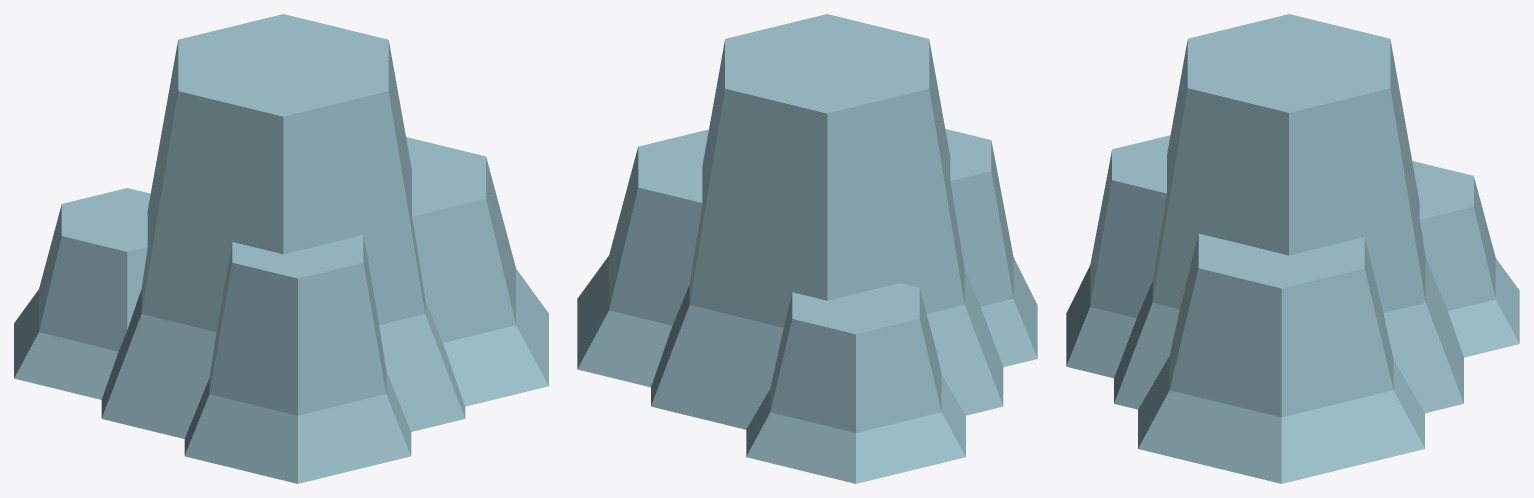
File: d_kenney_rochers_hauts.glb
3 views of the same model, side by side, from view 1: azimuth 30°, elevation 25°; view 2: azimuth 150°, elevation 25°; view 3: azimuth 270°, elevation 25° (orthographic). The views are drawn at different scales.
Visible parts, largest first — view 1: d_kenney_rochers_hauts; view 2: d_kenney_rochers_hauts; view 3: d_kenney_rochers_hauts.
Part boxes in pixels (x1=…): d_kenney_rochers_hauts: x1=14, y1=14, x2=548, y2=483; d_kenney_rochers_hauts: x1=577, y1=14, x2=1037, y2=483; d_kenney_rochers_hauts: x1=1066, y1=14, x2=1519, y2=483.
Bounding box in the file's own units: 0.9342 × 0.59 × 0.8148.
Materials: 1 (1 with a texture image).
